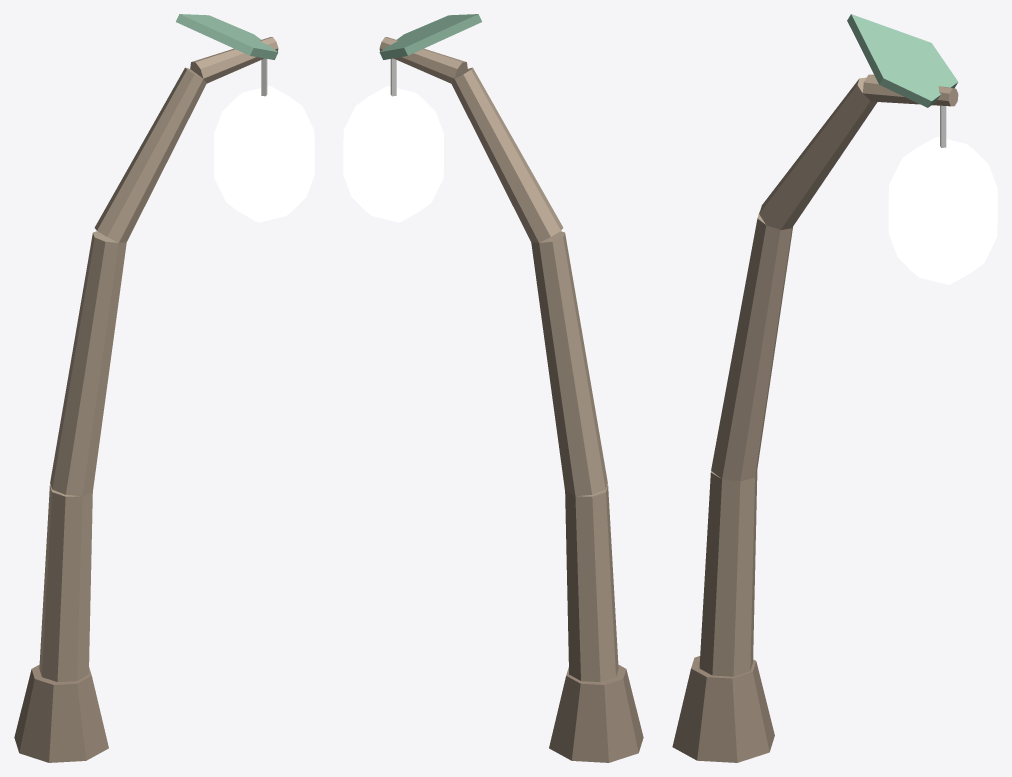
File: prop_elf_lantern.glb
The picture shows the model from 3 angles, left to right: view 1: azimuth 30°, elevation 25°; view 2: azimuth 150°, elevation 25°; view 3: azimuth 330°, elevation 25°; orthographic projection. The views are drawn at different scales.
Visible parts, largest first — view 1: prop_elf_lantern; view 2: prop_elf_lantern; view 3: prop_elf_lantern.
Part boxes in pixels (left/top/right/bottom): prop_elf_lantern: left=14, top=14, right=314, bottom=762; prop_elf_lantern: left=343, top=14, right=643, bottom=762; prop_elf_lantern: left=672, top=14, right=997, bottom=762.
Size of the model in its own units: 1.49 by 3.47 by 0.44.
